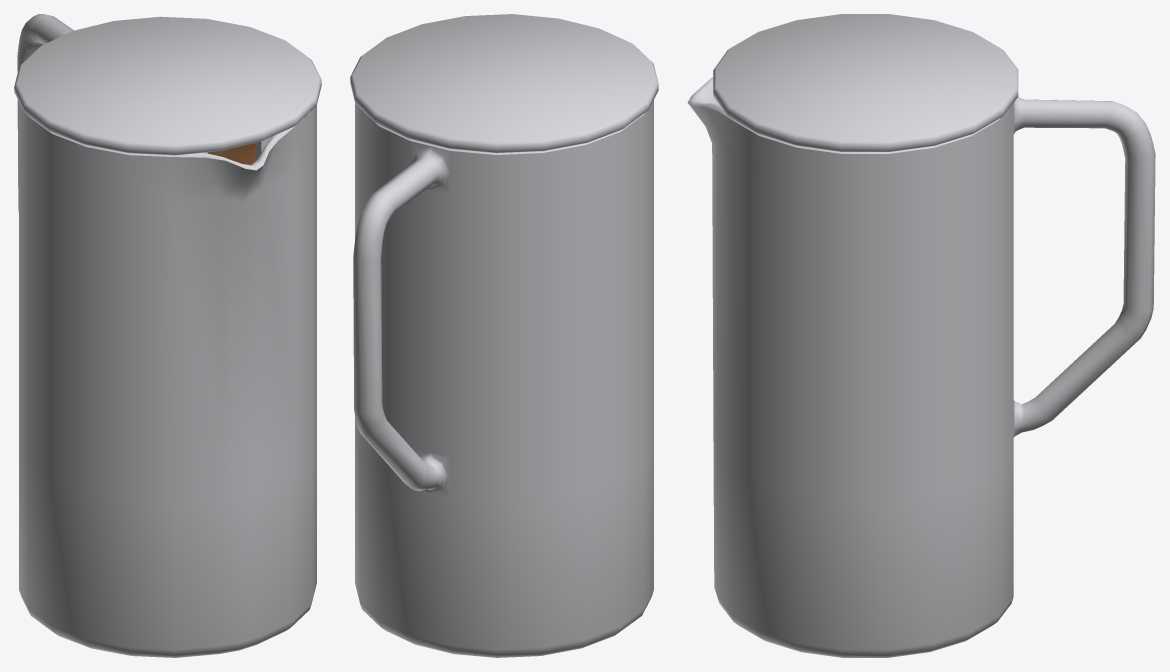
File: Water Jug.fbx
The picture shows the model from 3 angles, left to right: view 1: azimuth 30°, elevation 25°; view 2: azimuth 150°, elevation 25°; view 3: azimuth 270°, elevation 25°; orthographic projection.
Parts seen in each view (by area): view 1: Water Jug, Water Jug_Inner, Water Jug_Content; view 2: Water Jug, Water Jug_Inner; view 3: Water Jug, Water Jug_Inner.
Boxes of the visible parts, x1,y1,x2,y2 form: Water Jug: (14, 14, 321, 657); Water Jug_Inner: (28, 111, 310, 170); Water Jug_Content: (208, 142, 256, 164); Water Jug: (350, 14, 658, 657); Water Jug_Inner: (360, 108, 644, 154); Water Jug: (688, 14, 1155, 657); Water Jug_Inner: (687, 77, 1000, 153).
Size of the model in its own units: 0.1041 by 0.1593 by 0.1965.
